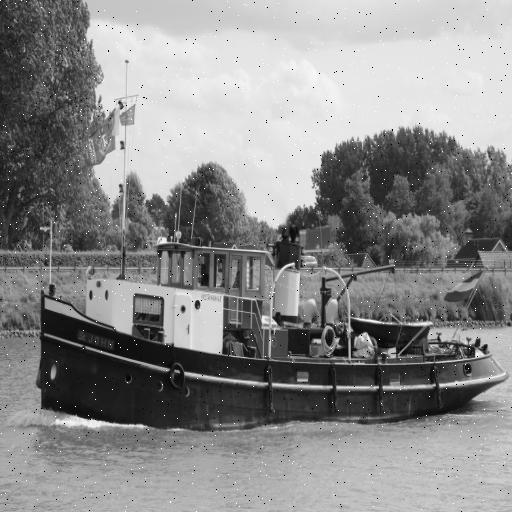tugboat: (35, 215, 512, 442)
